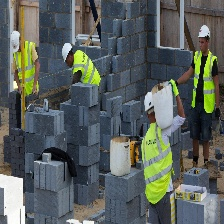helmet: (142, 85, 157, 119), (196, 20, 211, 45), (61, 40, 73, 67), (9, 27, 21, 53)
person: (141, 86, 178, 221), (186, 16, 218, 169), (7, 25, 41, 113), (61, 36, 102, 93)
vest: (140, 121, 172, 203), (192, 47, 216, 117), (14, 43, 40, 98), (73, 44, 99, 92)
